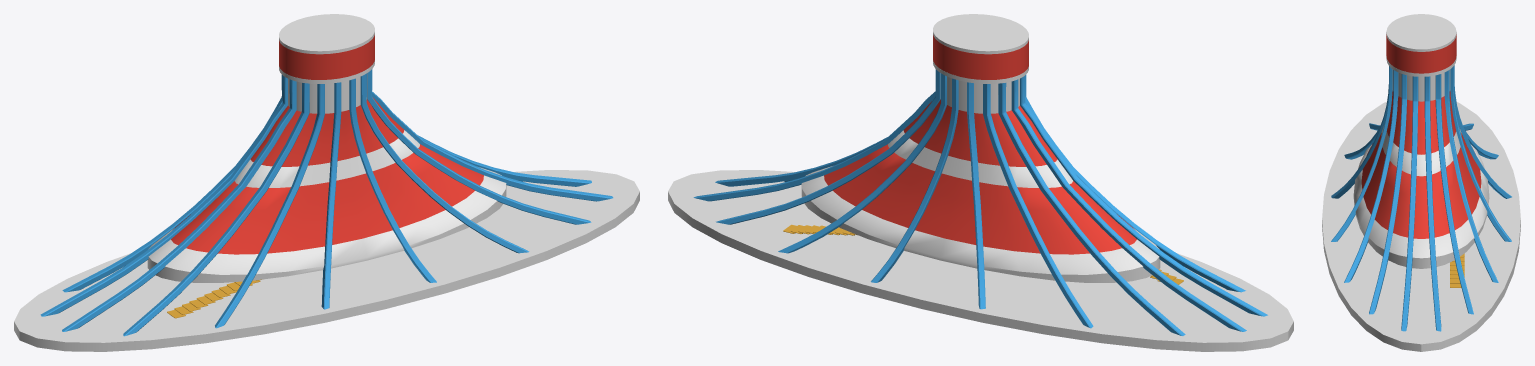
The model's file is user_starting_building.fbx.
3 views of the same model, side by side, from view 1: azimuth 30°, elevation 25°; view 2: azimuth 150°, elevation 25°; view 3: azimuth 270°, elevation 25° (orthographic). The views are drawn at different scales.
Visible parts, largest first — view 1: Cylinder, Cylinder.001, Cylinder.005, Cylinder.006, Cylinder.004, Stairs; view 2: Cylinder, Cylinder.001, Cylinder.005, Cylinder.006, Cylinder.004; view 3: Cylinder, Cylinder.001, Cylinder.005, Cylinder.006, Cylinder.004, Stairs.001.
Part boxes in pixels (x1,y1,x2,y2): Cylinder: (14,14,639,351); Cylinder.001: (40,69,613,336); Cylinder.005: (171,144,483,254); Cylinder.006: (250,97,404,166); Cylinder.004: (235,130,419,187); Stairs: (167,279,261,318); Cylinder: (668,14,1293,351); Cylinder.001: (693,69,1267,335); Cylinder.005: (824,144,1136,254); Cylinder.006: (903,99,1057,166); Cylinder.004: (888,130,1072,187); Cylinder: (1322,14,1520,351); Cylinder.001: (1331,65,1511,331); Cylinder.005: (1361,133,1481,238); Cylinder.006: (1386,91,1456,154); Cylinder.004: (1381,125,1461,176); Stairs.001: (1450,253,1464,287).
Bounding box in the file's own units: 791 × 286 × 265.
